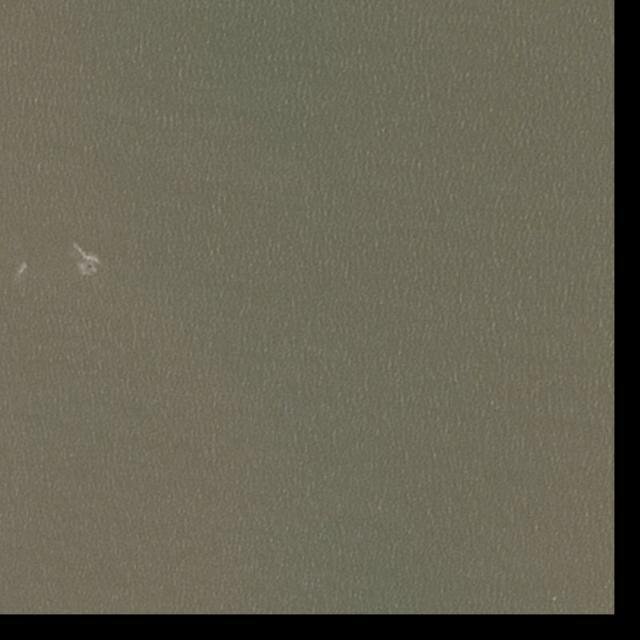ship: (18, 263, 28, 275)
